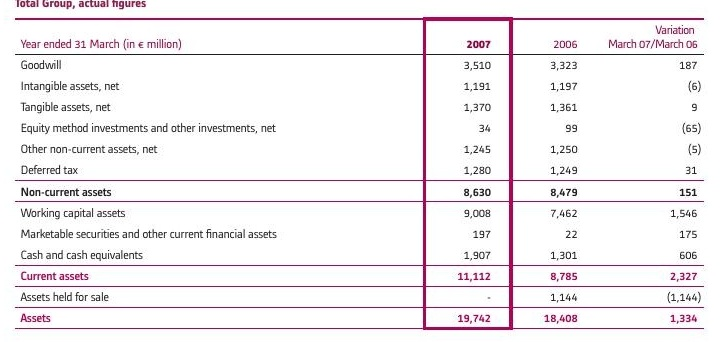table: (0, 0, 723, 342)
